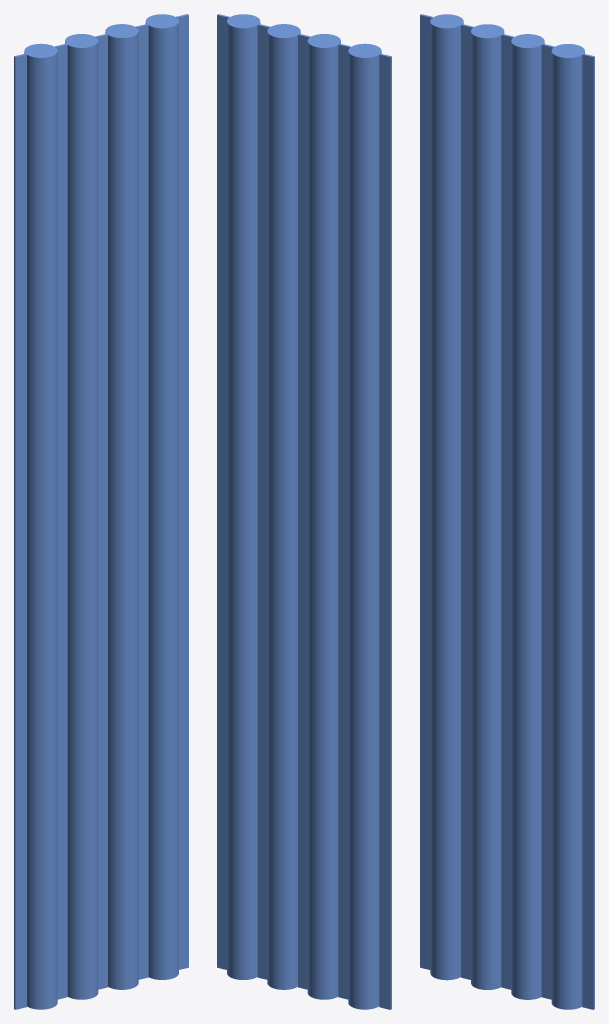
Rendered from Panel5.fbx.
3 renders of one model, left to right at view 1: azimuth 30°, elevation 25°; view 2: azimuth 150°, elevation 25°; view 3: azimuth 330°, elevation 25°, orthographic.
Parts seen in each view (by area): view 1: Panel Ciepłowniczy; view 2: Panel Ciepłowniczy; view 3: Panel Ciepłowniczy.
Part boxes in pixels (x1,y1,x2,y2): Panel Ciepłowniczy: (14,14,188,1009); Panel Ciepłowniczy: (217,14,391,1009); Panel Ciepłowniczy: (420,14,594,1009).
Size of the model in its own units: 38.13 by 200 by 6.35.
